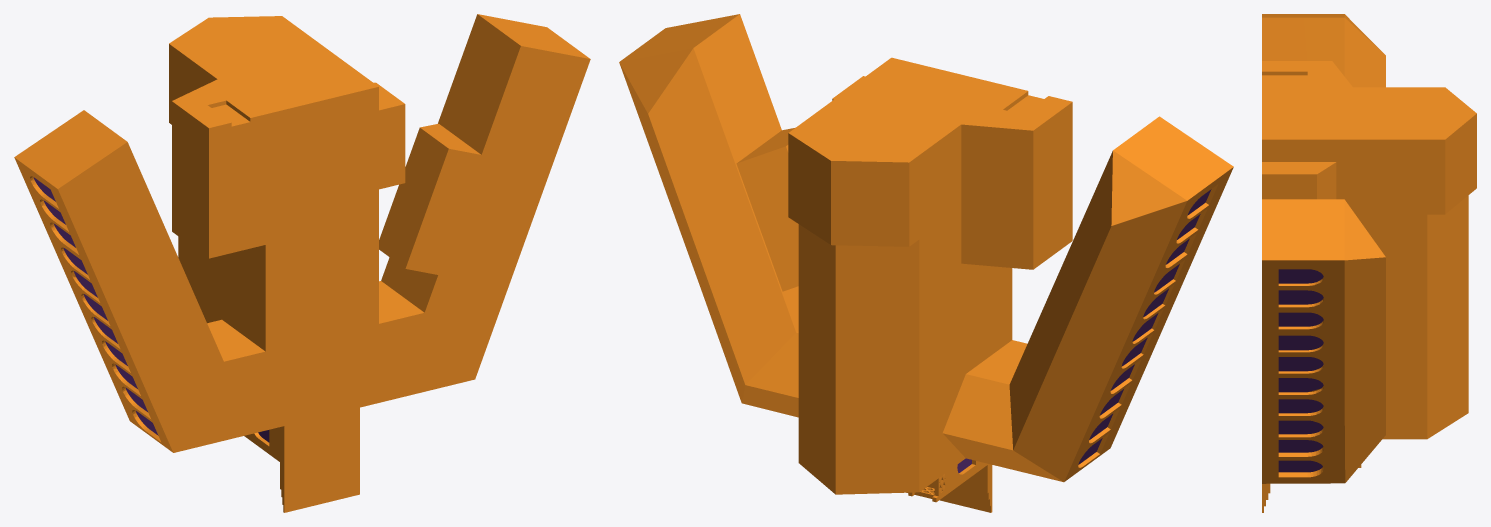
Rendered from Resursa.fbx.
3 renders of one model, left to right at view 1: azimuth 30°, elevation 25°; view 2: azimuth 150°, elevation 25°; view 3: azimuth 270°, elevation 25°, orthographic. The views are drawn at different scales.
Visible parts, largest first — view 1: Resursa_obj_0; view 2: Resursa_obj_0; view 3: Resursa_obj_0.
Boxes of the visible parts, x1,y1,x2,y2 form: Resursa_obj_0: (14,14,590,512); Resursa_obj_0: (619,14,1233,512); Resursa_obj_0: (1262,14,1476,512).
Bounding box in the file's own units: 41.67 × 30.59 × 15.36.
1 material, 1 textured.
